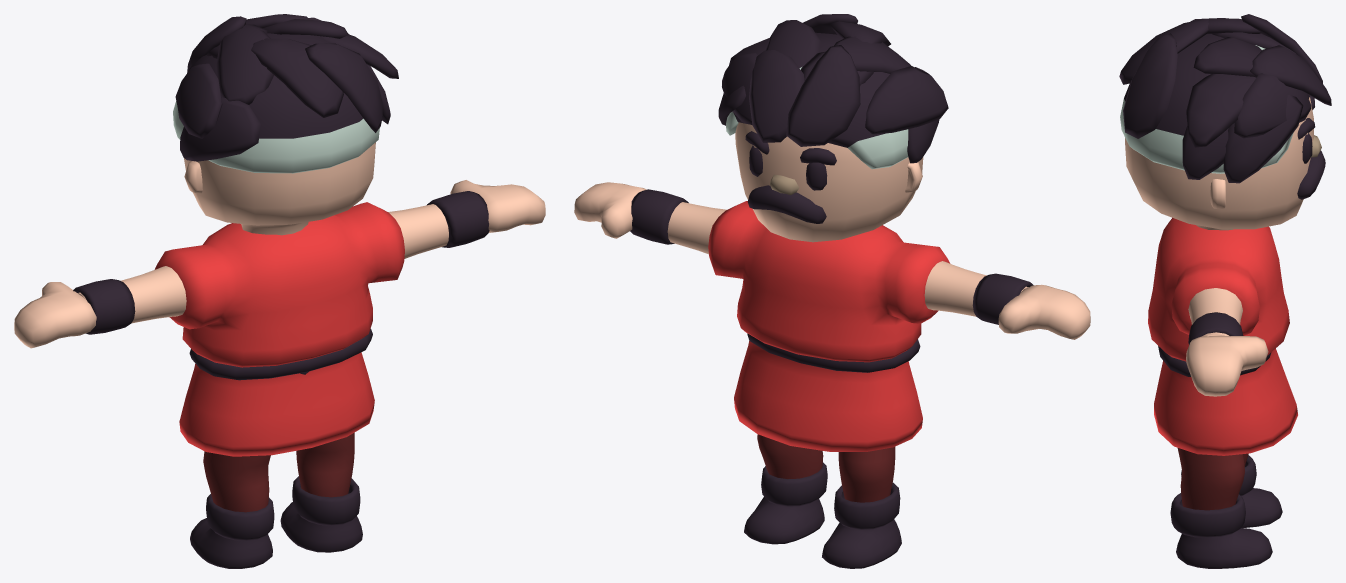
Rendered from man_11.fbx.
3 views of the same model, side by side, from view 1: azimuth 30°, elevation 25°; view 2: azimuth 150°, elevation 25°; view 3: azimuth 270°, elevation 25° (orthographic). The views are drawn at different scales.
Visible parts, largest first — view 1: Cube.005; view 2: Cube.005; view 3: Cube.005.
Part boxes in pixels (bbox=[...]): Cube.005: bbox=[14, 14, 545, 568]; Cube.005: bbox=[574, 14, 1090, 568]; Cube.005: bbox=[1119, 14, 1331, 568].
Size of the model in its own units: 476 by 454 by 172.
